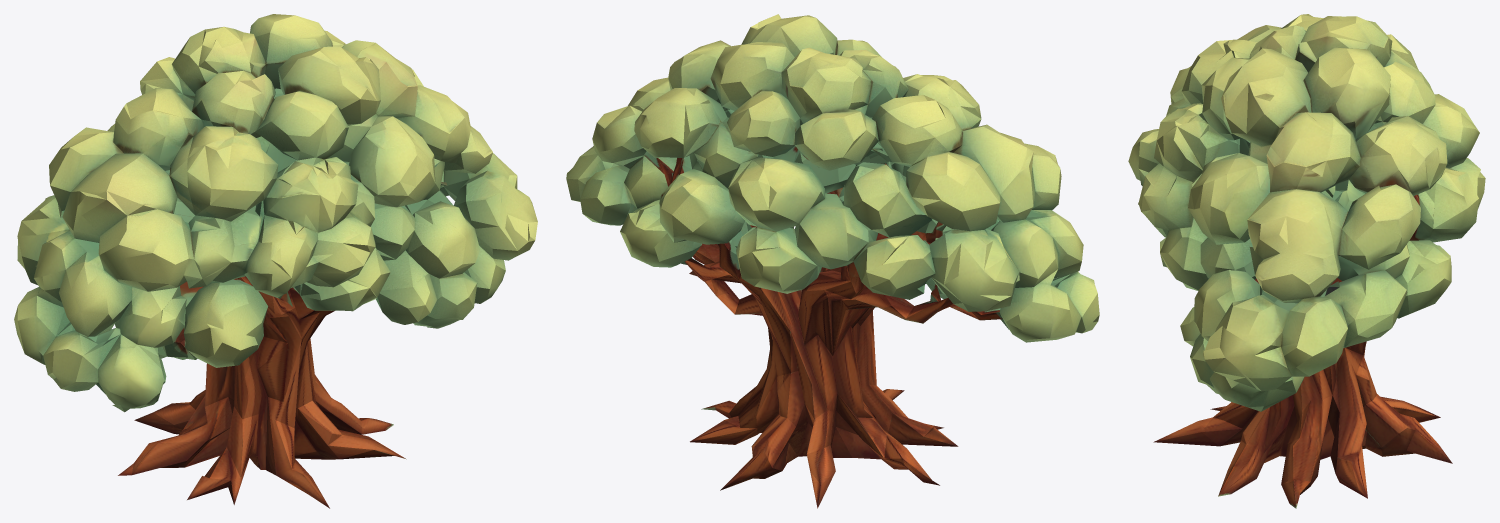
The model's file is oak.glb.
3 views of the same model, side by side, from view 1: azimuth 30°, elevation 25°; view 2: azimuth 150°, elevation 25°; view 3: azimuth 270°, elevation 25° (orthographic). The views are drawn at different scales.
Size of the model in its own units: 1.9 by 1.5 by 1.16.
1 material, 1 textured.
